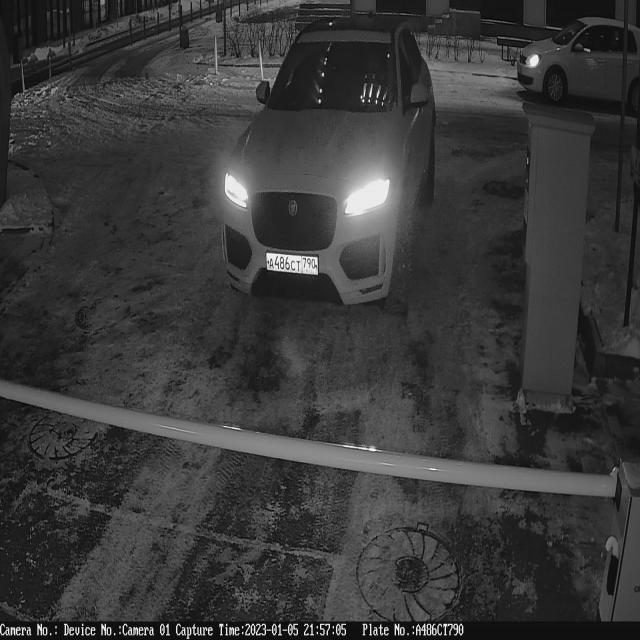car-plate-numbers: (262, 248, 324, 286)
